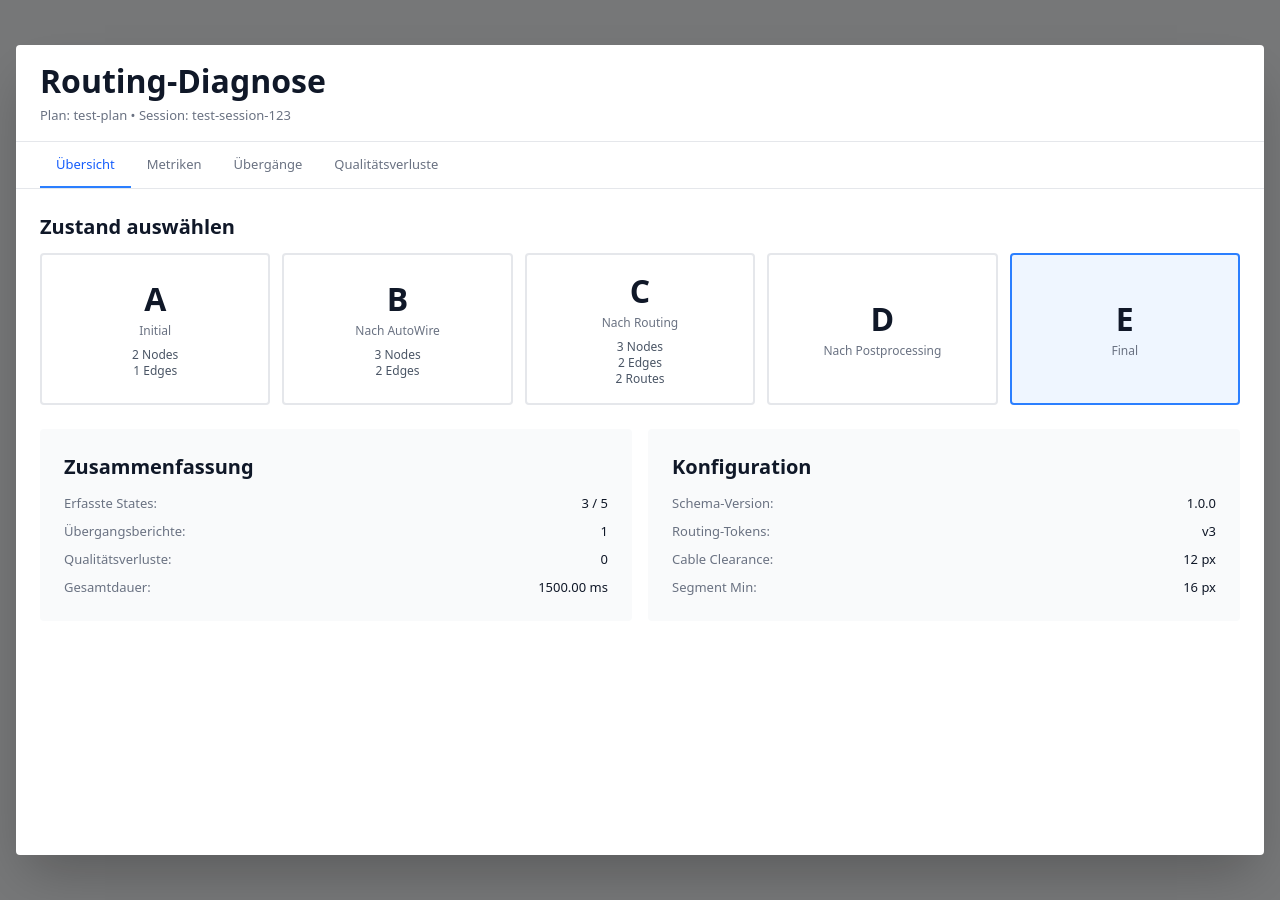
Test case: DiagnosticViewer › should show no quality losses message when array is empty
What coordinates should you click on to do the following:
click the button "Qualitätsverluste"
I would click on:
 (386, 165)
Its box is [318, 142, 454, 188].
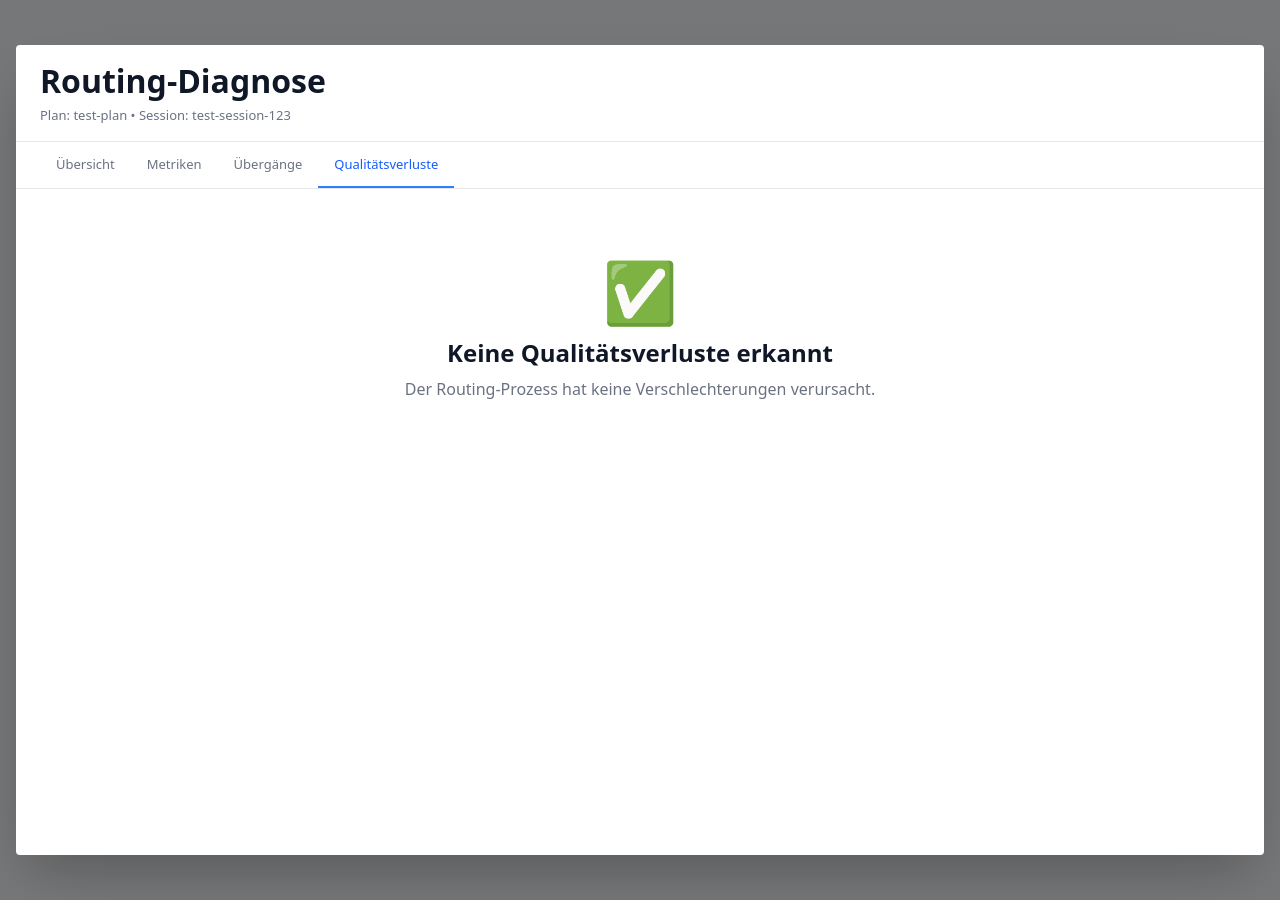
expect the heading "Keine Qualitätsverluste erkannt" is shown: met, box [447, 336, 833, 369]
